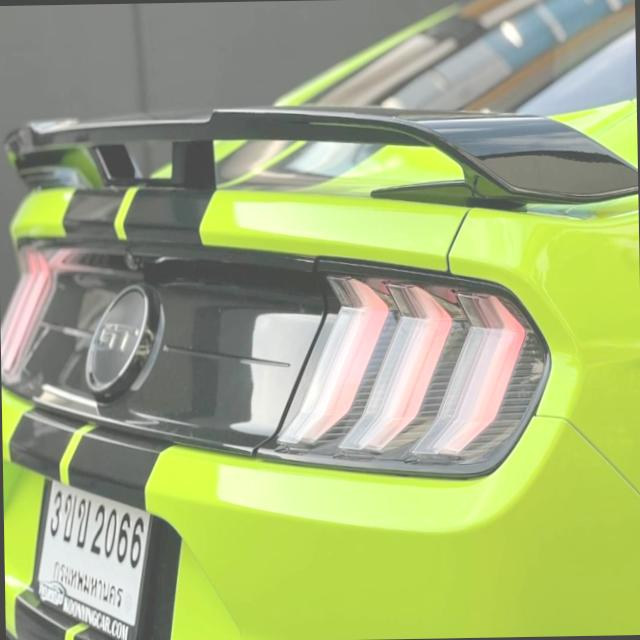license_plate: (23, 471, 158, 640)
